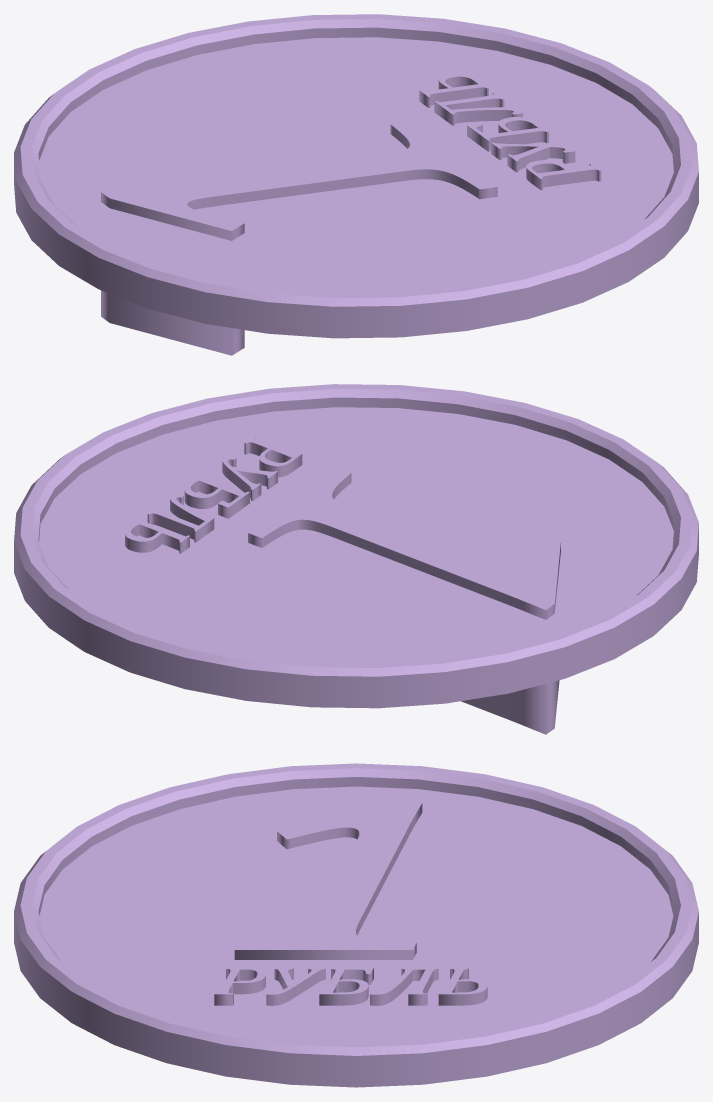
Rendered from 1 рубль.fbx.
3 renders of one model, top to bottom at view 1: azimuth 30°, elevation 25°; view 2: azimuth 150°, elevation 25°; view 3: azimuth 270°, elevation 25°, orthographic.
Visible parts, largest first — view 1: Окружность, Текст, Текст.001; view 2: Окружность, Текст, Текст.001; view 3: Окружность, Текст, Текст.001.
Boxes of the visible parts, left/top/right/bottom form: Окружность: left=14, top=14, right=698, bottom=338; Текст: left=101, top=121, right=497, bottom=355; Текст.001: left=419, top=73, right=601, bottom=190; Окружность: left=14, top=384, right=698, bottom=708; Текст: left=248, top=467, right=560, bottom=734; Текст.001: left=125, top=436, right=302, bottom=553; Окружность: left=14, top=763, right=698, bottom=1087; Текст: left=234, top=802, right=422, bottom=959; Текст.001: left=214, top=968, right=487, bottom=1005.
Bounding box in the file's own units: 125 × 26.28 × 125.
